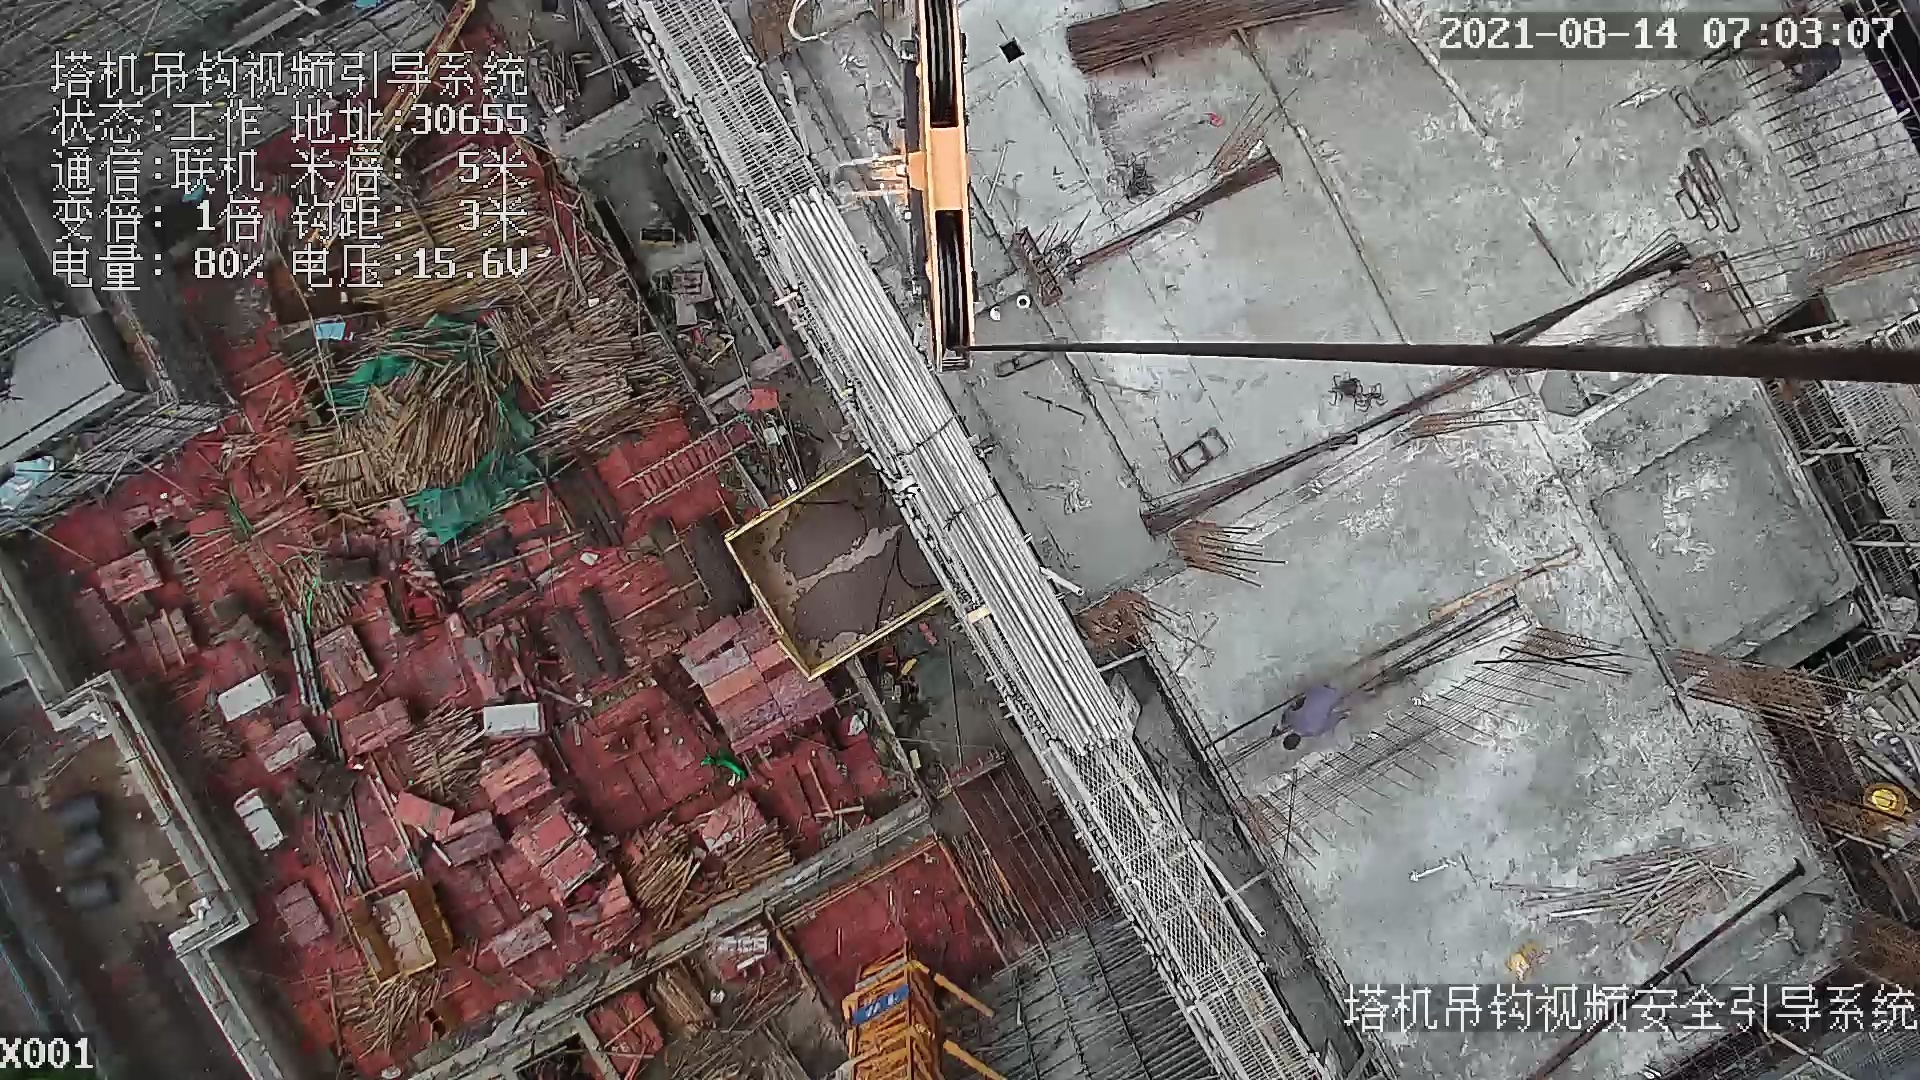hook: (823, 1, 982, 376)
person: (1276, 682, 1353, 747), (1774, 50, 1842, 99)
slogan: (848, 972, 914, 1032)
